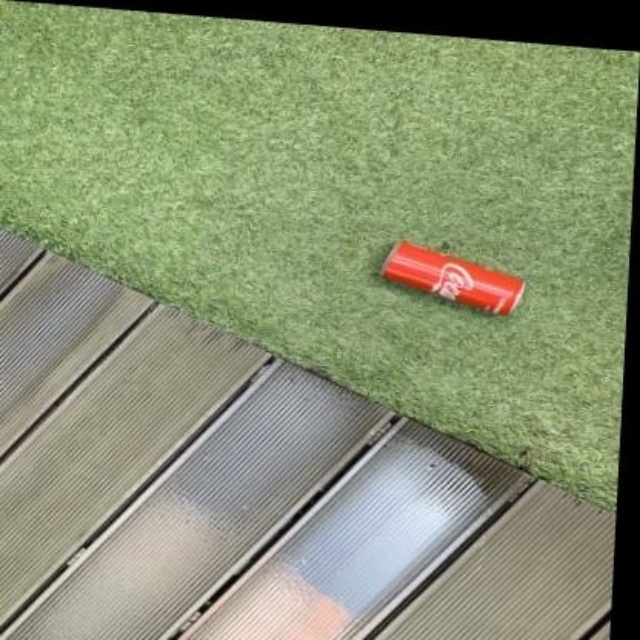trash: (382, 242, 523, 314)
